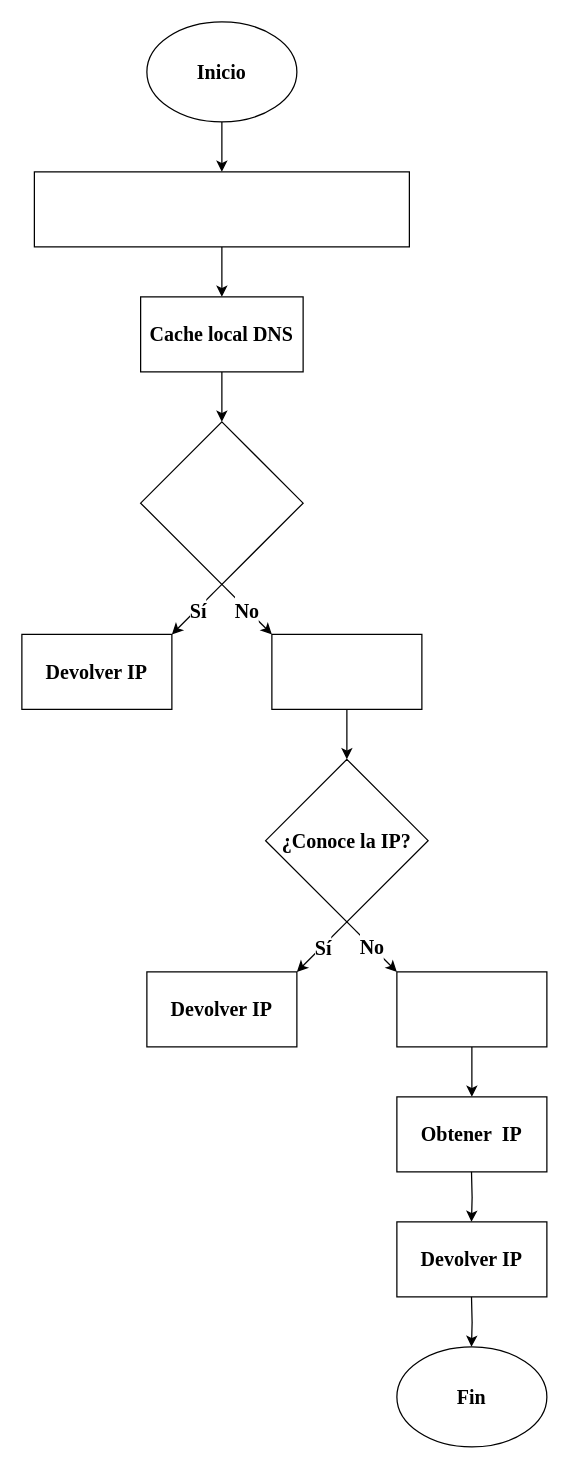
The diagram is 569 pixels wide and 1469 high, and some of its shapes have lost their labels. The shapes that lost their labels are listed below. From the top down, each one's centre as x and y in pixels, then its label:
At point 221,209: "Cliente realiza petición de un nombre de dominio".
At point 221,502: "¿Hay respuesta?".
At point 346,671: "Consultar servidor DNS".
At point 471,1009: "Consultar otros servidores DNS".
